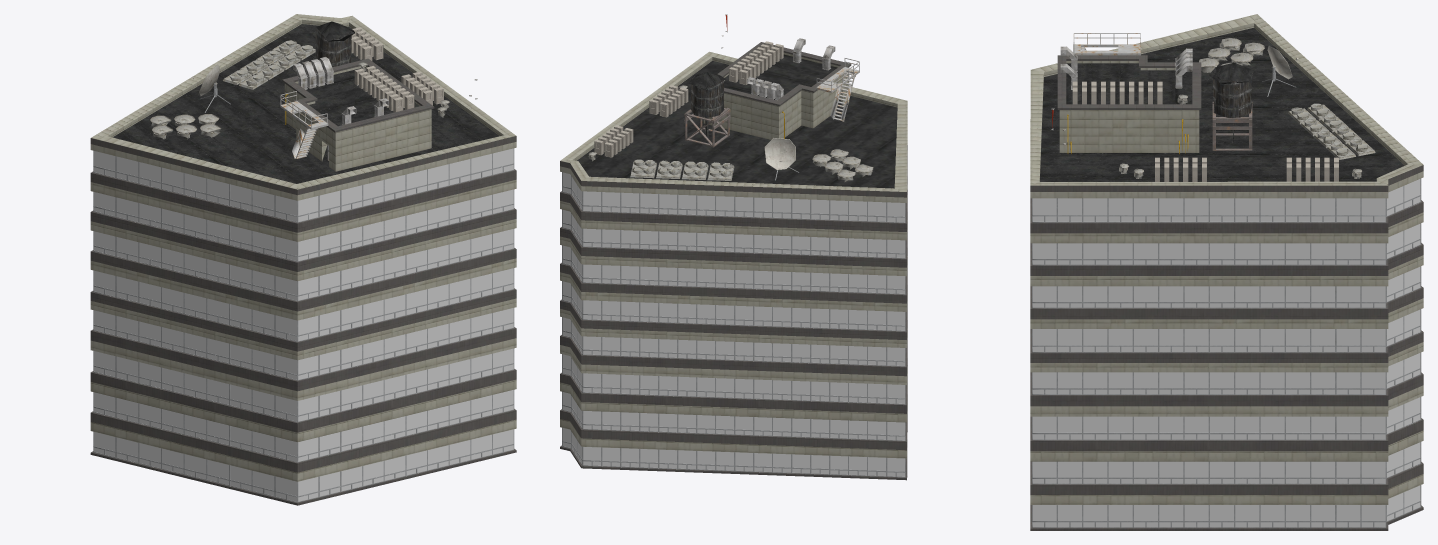
File: KB3D_NEC_BldgLG_A_Main_H34.glb
3 renders of one model, left to right at view 1: azimuth 30°, elevation 25°; view 2: azimuth 150°, elevation 25°; view 3: azimuth 270°, elevation 25°, orthographic. The views are drawn at different scales.
Visible parts, largest first — view 1: KB3D_NEC_BldgLG_A_Main; view 2: KB3D_NEC_BldgLG_A_Main; view 3: KB3D_NEC_BldgLG_A_Main.
Part boxes in pixels (x1,y1,x2,y2): KB3D_NEC_BldgLG_A_Main: (90,14,516,505); KB3D_NEC_BldgLG_A_Main: (560,14,907,480); KB3D_NEC_BldgLG_A_Main: (1030,14,1423,530).
Bounding box in the file's own units: 29.86 × 34.13 × 28.99.
Materials: 14 (12 with a texture image).
